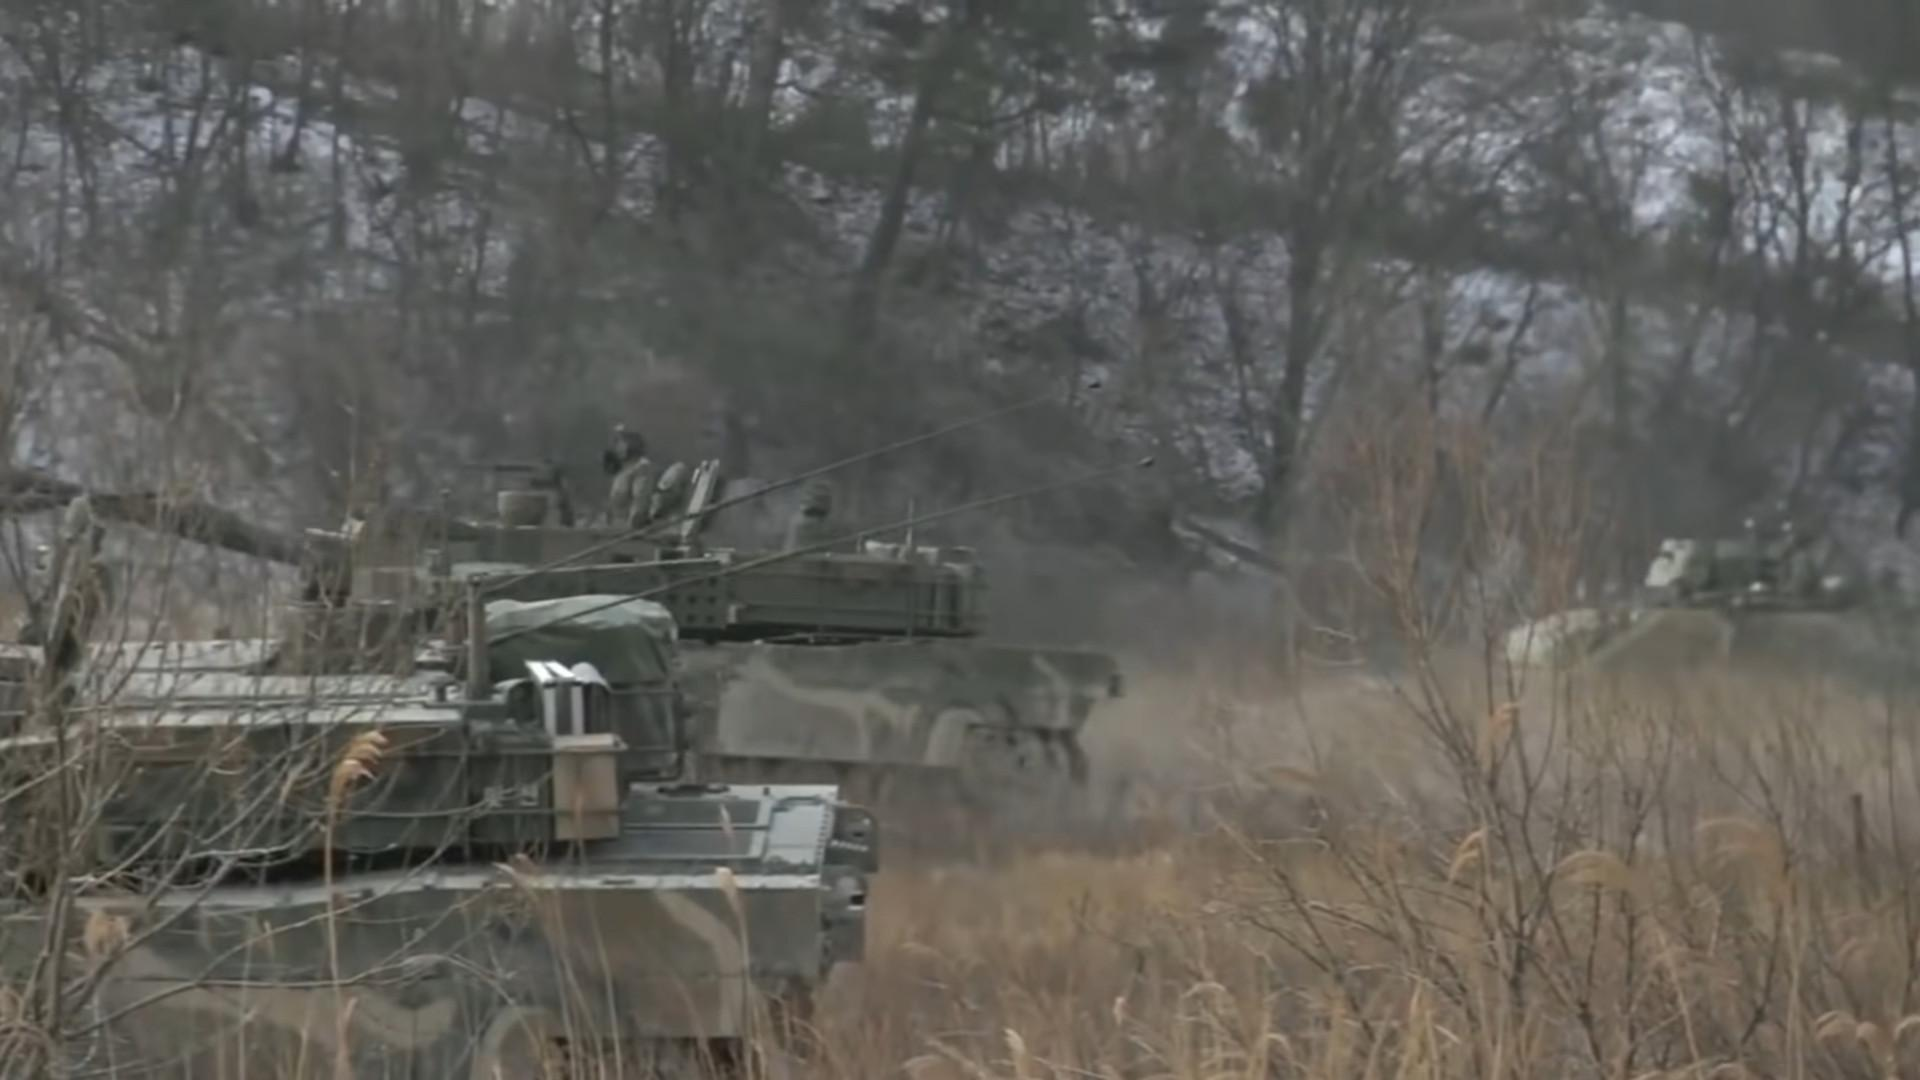tank: (0, 467, 882, 1079), (431, 455, 1124, 848)
